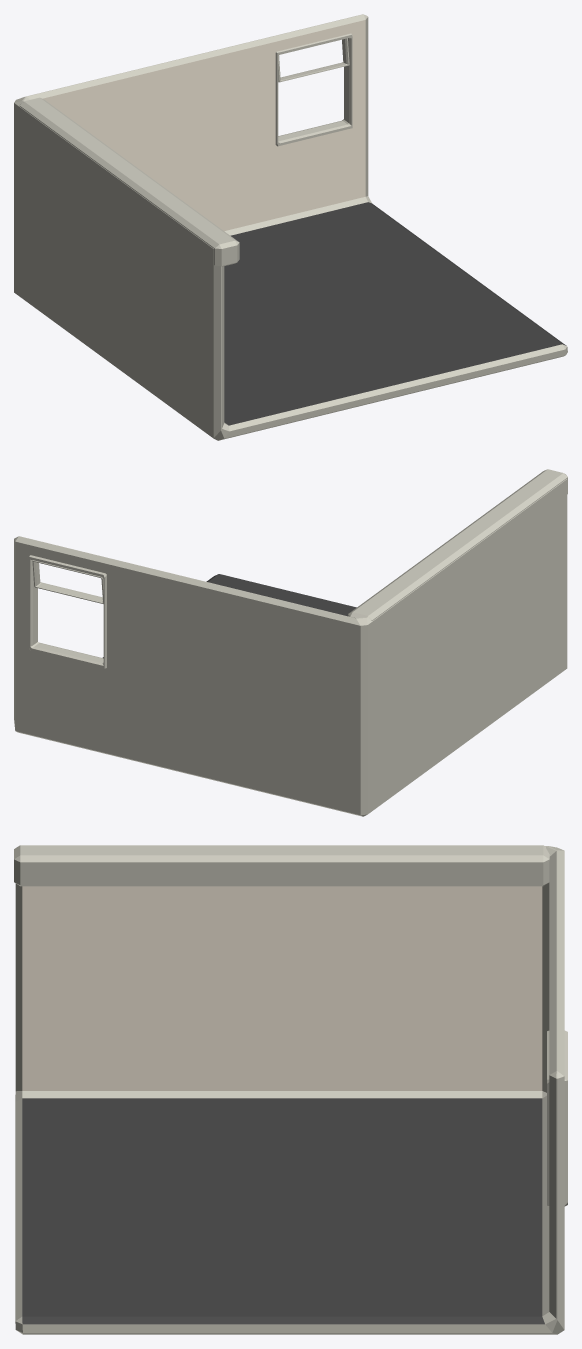
File: living_room.gltf
3 renders of one model, top to bottom at view 1: azimuth 30°, elevation 25°; view 2: azimuth 150°, elevation 25°; view 3: azimuth 270°, elevation 25°, orthographic. The views are drawn at different scales.
Visible parts, largest first — view 1: living room; view 2: living room; view 3: living room.
Boxes of the visible parts, x1,y1,x2,y2 form: living room: (14, 14, 567, 440); living room: (14, 469, 567, 816); living room: (14, 845, 567, 1334).
Bounding box in the file's own units: 10.52 × 5.59 × 10.64.
